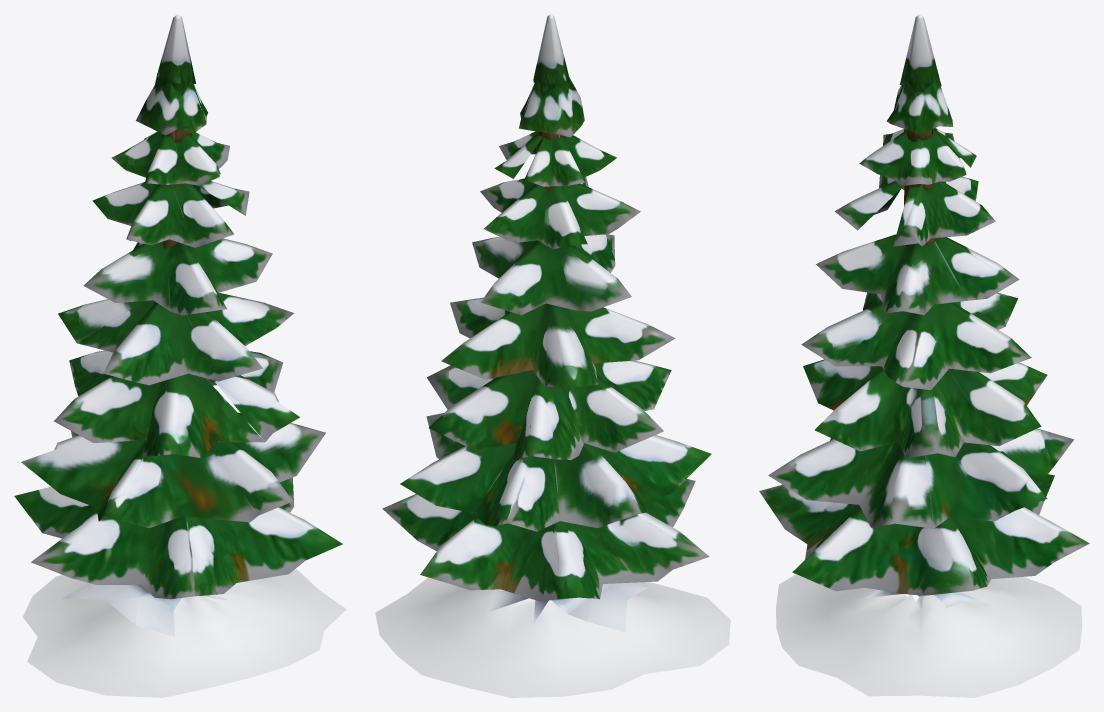
File: SKI_PROP_Pine_A-CcBngMB0.glb
The picture shows the model from 3 angles, left to right: view 1: azimuth 30°, elevation 25°; view 2: azimuth 150°, elevation 25°; view 3: azimuth 270°, elevation 25°; orthographic projection.
Parts seen in each view (by area): view 1: SKI_PROP_Pine_A; view 2: SKI_PROP_Pine_A; view 3: SKI_PROP_Pine_A.
Part boxes in pixels (x1,y1,x2,y2): SKI_PROP_Pine_A: [14, 14, 346, 697]; SKI_PROP_Pine_A: [375, 14, 730, 697]; SKI_PROP_Pine_A: [759, 14, 1089, 697].
Size of the model in its own units: 2.05 by 4 by 1.96.
1 material, 1 textured.
